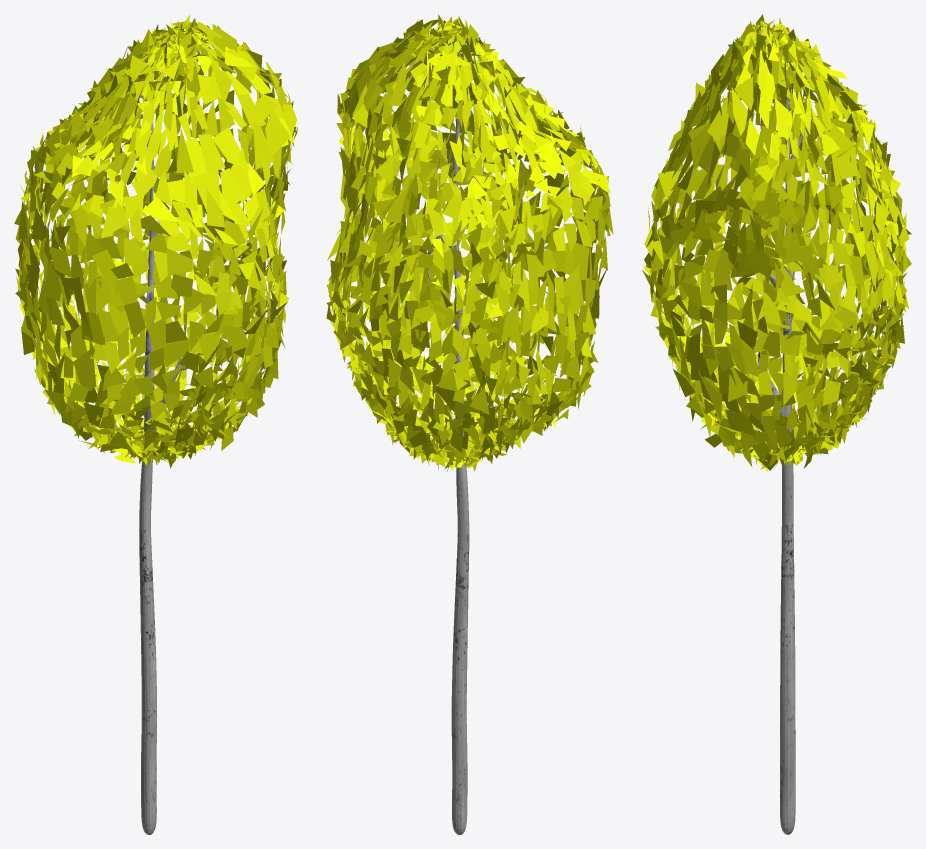
File: Leaves42.fbx
The picture shows the model from 3 angles, left to right: view 1: azimuth 30°, elevation 25°; view 2: azimuth 150°, elevation 25°; view 3: azimuth 270°, elevation 25°; orthographic projection. The views are drawn at different scales.
Visible parts, largest first — view 1: Leaves42; view 2: Leaves42; view 3: Leaves42.
Boxes of the visible parts, left/top/right/bottom form: Leaves42: left=14, top=14, right=297, bottom=834; Leaves42: left=326, top=14, right=613, bottom=834; Leaves42: left=642, top=14, right=911, bottom=834.
Size of the model in its own units: 873 by 2643 by 783.
2 materials, 1 textured.
